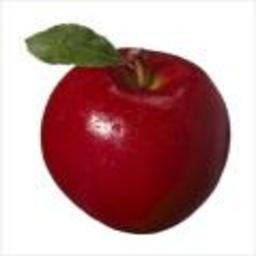apple: (39, 50, 230, 235)
